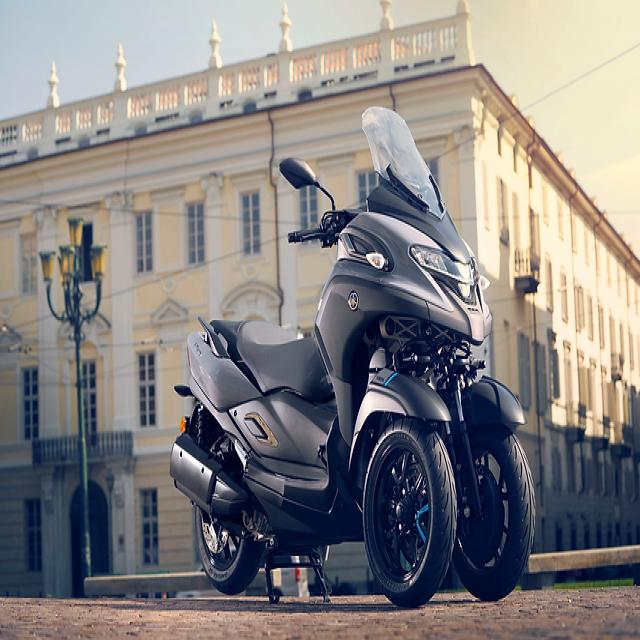Bike: (169, 107, 534, 610)
